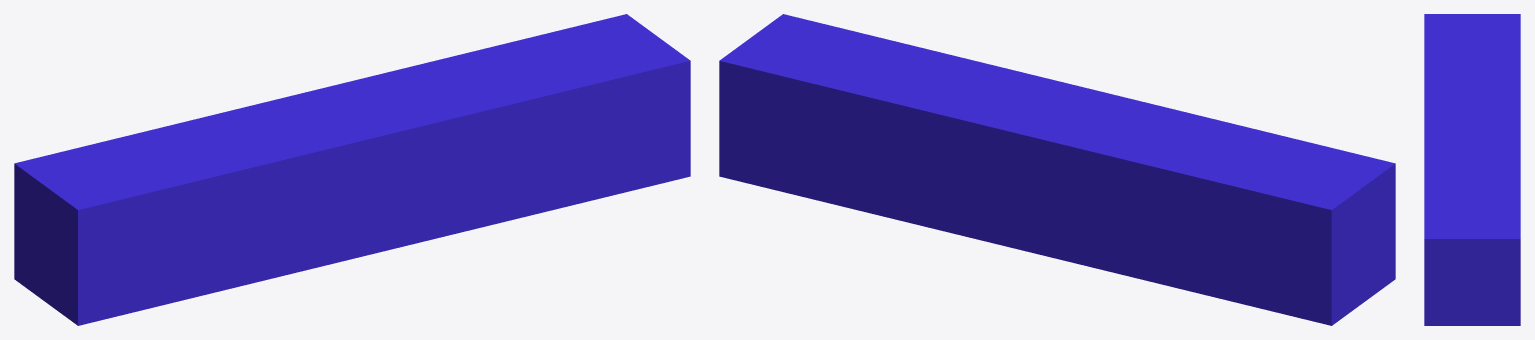
Rendered from UserPlatform.fbx.
The picture shows the model from 3 angles, left to right: view 1: azimuth 30°, elevation 25°; view 2: azimuth 150°, elevation 25°; view 3: azimuth 270°, elevation 25°; orthographic projection. The views are drawn at different scales.
Parts seen in each view (by area): view 1: Cube; view 2: Cube; view 3: Cube.
Part boxes in pixels (x1,y1,x2,y2): Cube: (14,14,690,325); Cube: (719,14,1395,325); Cube: (1424,14,1520,325).
Size of the model in its own units: 1107 by 200 by 200.
